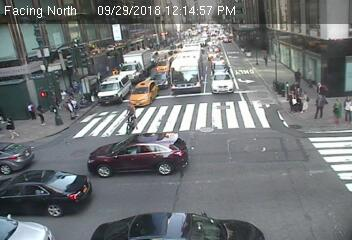car: (89, 213, 264, 239), (87, 132, 189, 175), (1, 170, 94, 213), (171, 44, 206, 98), (1, 215, 50, 238), (1, 142, 37, 171), (118, 50, 152, 77), (96, 78, 131, 104), (128, 79, 158, 107), (211, 73, 238, 94), (148, 72, 172, 88), (156, 58, 172, 72), (211, 63, 232, 73), (207, 51, 228, 61), (196, 36, 209, 47), (223, 34, 234, 43)
